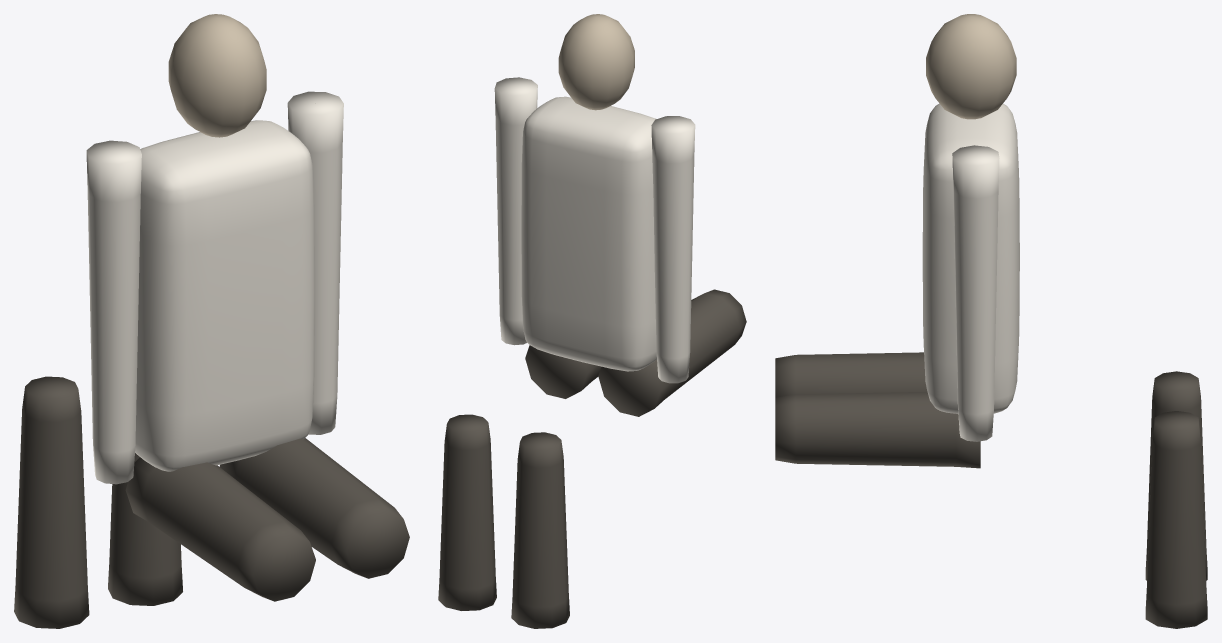
Rendered from person-seated.glb.
3 renders of one model, left to right at view 1: azimuth 30°, elevation 25°; view 2: azimuth 150°, elevation 25°; view 3: azimuth 270°, elevation 25°, orthographic. The views are drawn at different scales.
Visible parts, largest first — view 1: torso, arm_-1, leg_s_-1, leg_t_-1, leg_t_1, arm_1, head, leg_s_1; view 2: torso, arm_-1, leg_s_-1, leg_s_1, arm_1, leg_t_-1, head, leg_t_1; view 3: torso, leg_t_1, arm_1, leg_s_1, head, leg_t_-1, leg_s_-1.
Part boxes in pixels (x1,y1,x2,y2): torso: (135,120,314,471); arm_-1: (86,140,141,484); leg_s_-1: (14,376,89,628); leg_t_-1: (125,457,315,601); leg_t_1: (219,438,409,578); arm_1: (287,91,343,434); head: (168,14,266,137); leg_s_1: (108,453,182,605); torso: (521,96,656,371); arm_-1: (651,116,695,383); leg_s_-1: (511,432,569,628); leg_s_1: (438,414,496,610); arm_1: (494,77,537,345); leg_t_-1: (598,289,746,416); head: (558,14,634,110); leg_t_1: (525,345,600,398); torso: (922,103,1019,413); leg_t_1: (775,391,980,468); arm_1: (952,145,999,441); leg_s_1: (1145,411,1207,628); head: (926,14,1016,119); leg_t_-1: (775,352,927,397); leg_s_-1: (1145,371,1207,580).
Bounding box in the file's own units: 0.5338 × 1.37 × 0.9266.
